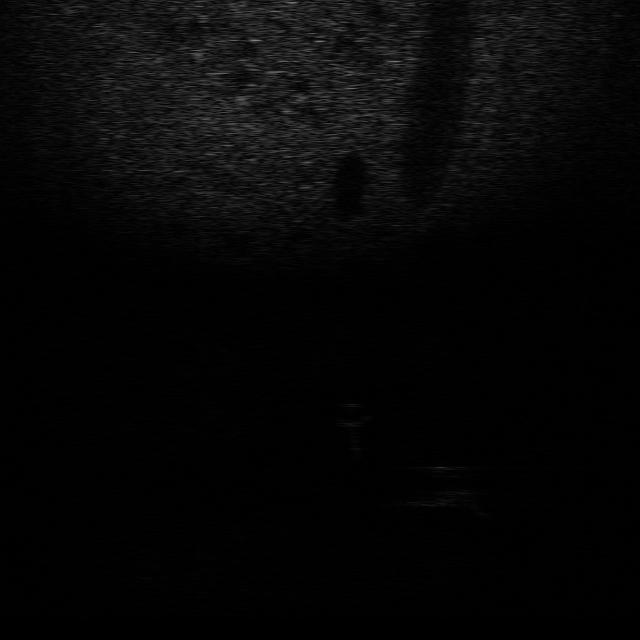ball: (325, 400, 375, 429)
tyre: (392, 461, 478, 510)
